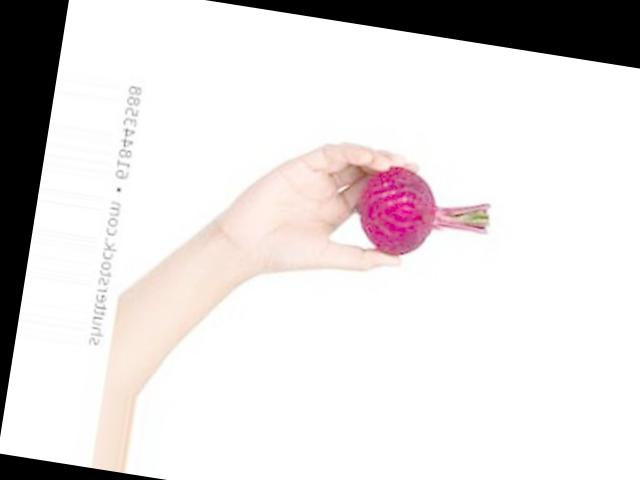beet: (353, 159, 495, 268)
